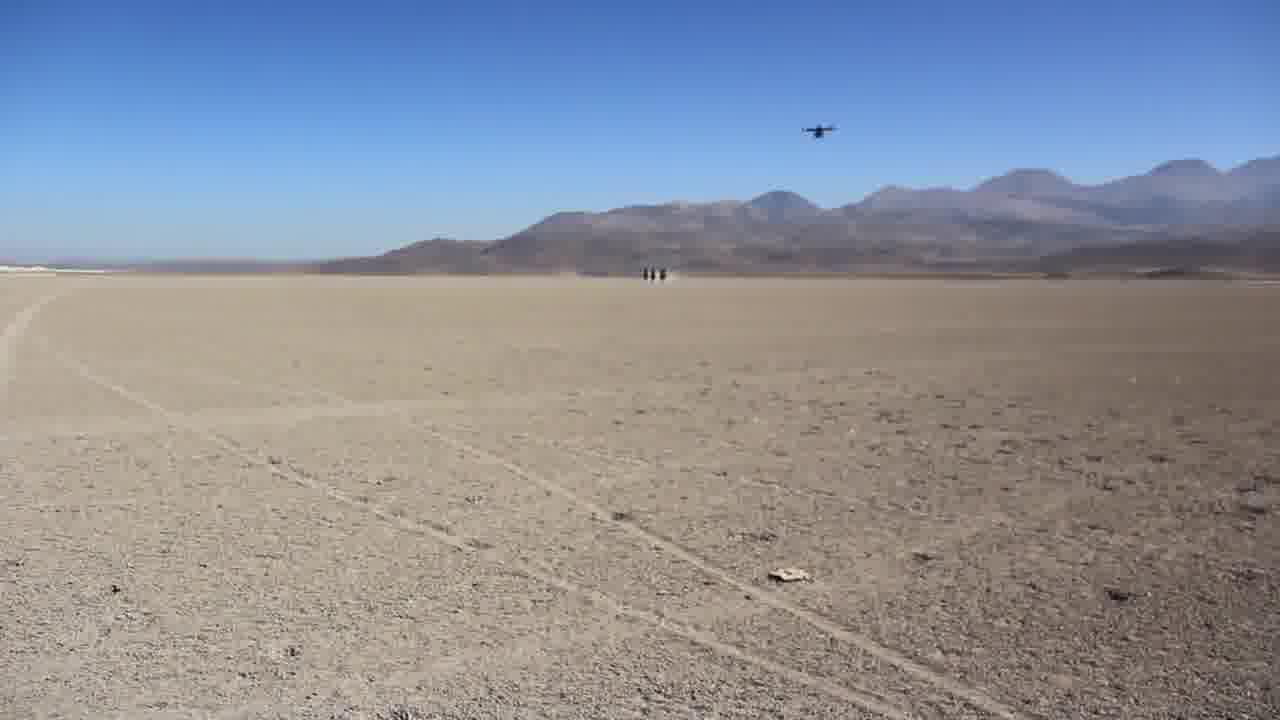drone: (797, 116, 838, 142)
